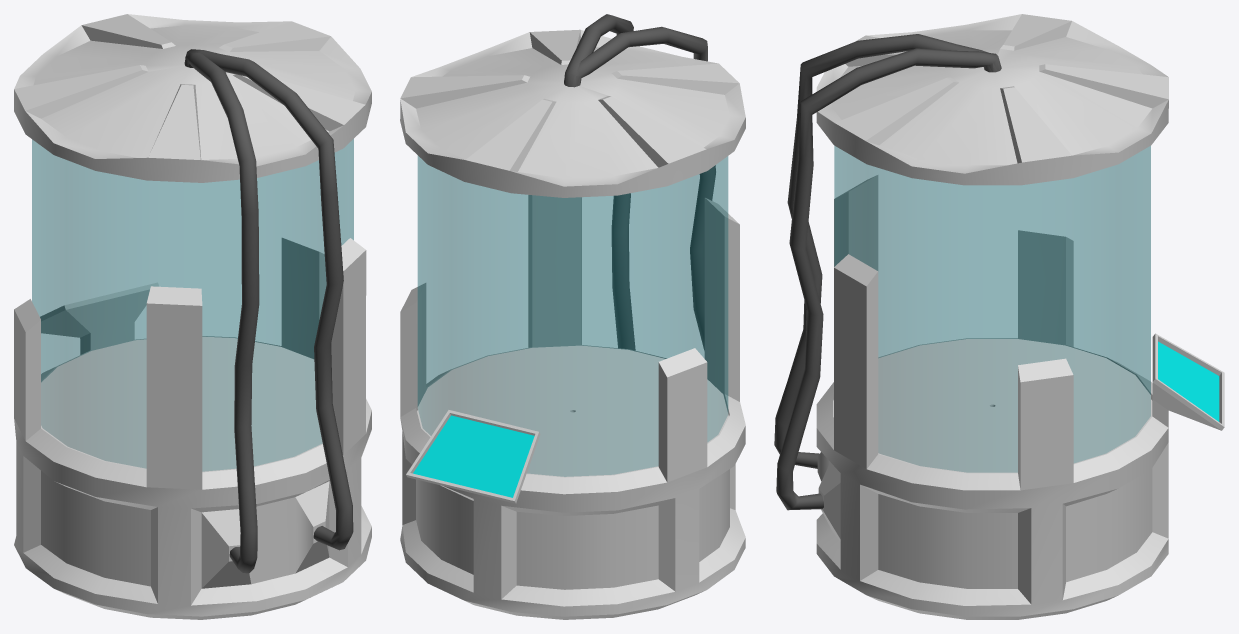
Rendered from SpecimenTank.fbx.
3 views of the same model, side by side, from view 1: azimuth 30°, elevation 25°; view 2: azimuth 150°, elevation 25°; view 3: azimuth 270°, elevation 25° (orthographic). The views are drawn at different scales.
Parts seen in each view (by area): view 1: StatusChamber, CarbonTube, OxygenTube; view 2: StatusChamber, OxygenTube, CarbonTube; view 3: StatusChamber, CarbonTube, OxygenTube.
Boxes of the visible parts, x1=… form: StatusChamber: x1=14, y1=14, x2=371, y2=619; CarbonTube: x1=184, y1=49, x2=353, y2=550; OxygenTube: x1=184, y1=52, x2=259, y2=573; StatusChamber: x1=400, y1=29, x2=745, y2=619; OxygenTube: x1=564, y1=26, x2=715, y2=350; CarbonTube: x1=564, y1=14, x2=635, y2=350; StatusChamber: x1=816, y1=14, x2=1224, y2=619; CarbonTube: x1=776, y1=48, x2=1001, y2=510; OxygenTube: x1=774, y1=34, x2=1000, y2=468.
Bounding box in the file's own units: 1.09 × 1.74 × 1.39.
